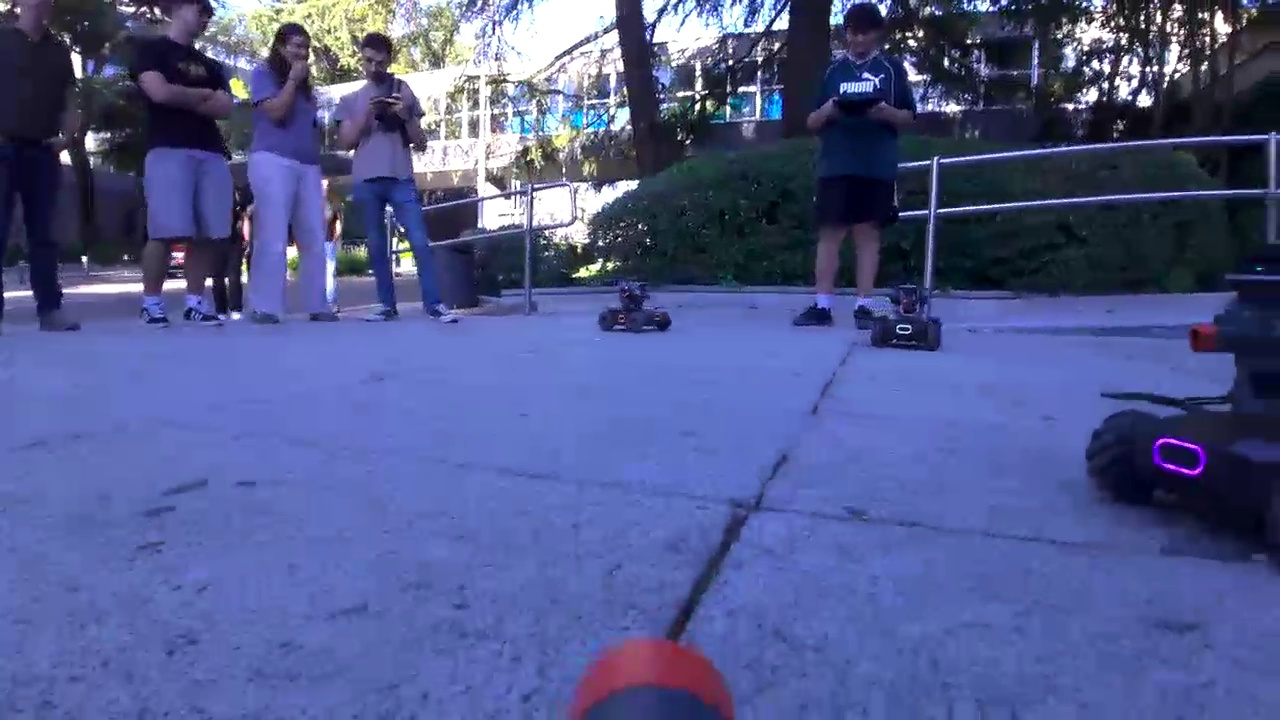robot: (1071, 272, 1280, 582), (856, 285, 943, 361), (590, 273, 668, 335)
